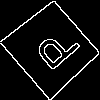P: (26, 23, 84, 79)
